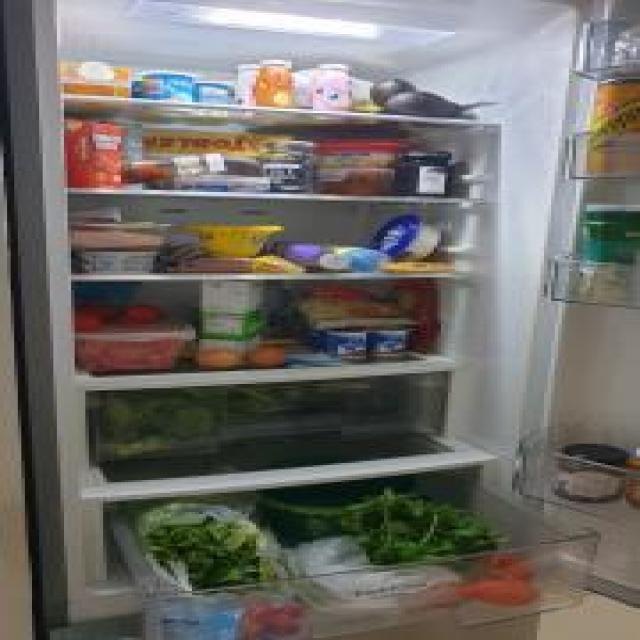avocado: (382, 90, 460, 120)
egg: (249, 339, 288, 367), (196, 348, 242, 369)
marmelade: (391, 145, 459, 196)
milk: (198, 276, 262, 355)
salad: (137, 503, 275, 589)
tomato: (468, 577, 546, 611), (69, 315, 105, 336), (121, 308, 163, 326)
tomato_sauce: (62, 120, 126, 194)
yogurt: (135, 65, 206, 116), (333, 328, 375, 360), (375, 330, 418, 357)
